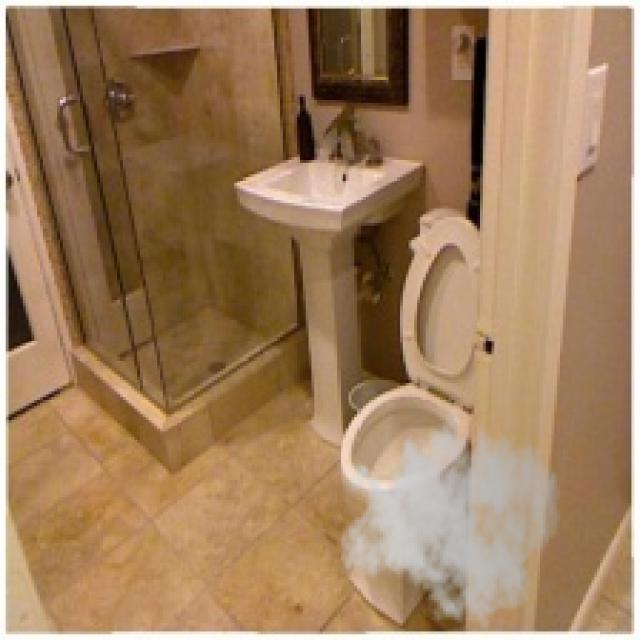smoke: (337, 397, 563, 632)
